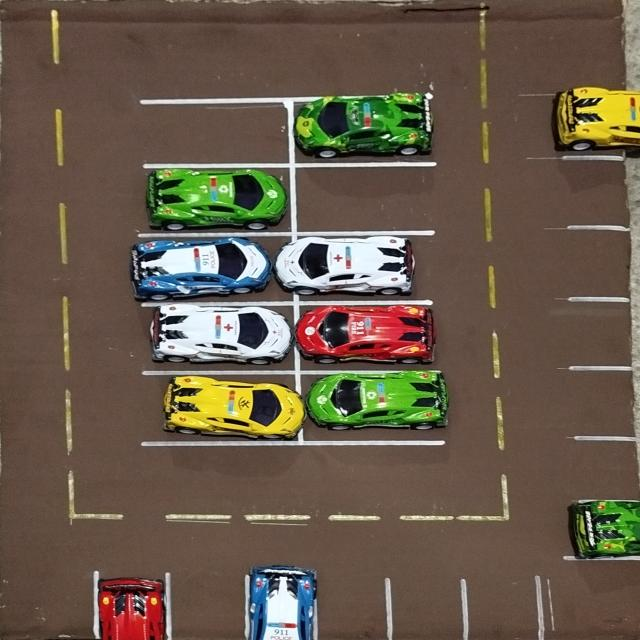libre: (290, 164, 439, 234), (138, 101, 292, 165), (0, 569, 95, 640), (560, 225, 640, 300), (168, 566, 246, 640), (562, 157, 640, 227), (387, 575, 464, 640), (462, 576, 540, 640), (565, 301, 640, 367), (571, 368, 640, 439), (317, 571, 388, 640), (574, 439, 640, 501)
ocupado: (129, 234, 295, 303), (144, 374, 301, 444), (141, 304, 296, 373), (296, 372, 446, 442), (139, 166, 292, 233), (295, 303, 443, 372), (292, 98, 437, 164), (294, 235, 436, 302), (246, 560, 317, 640), (551, 88, 640, 147), (95, 571, 167, 640), (571, 499, 640, 558)
